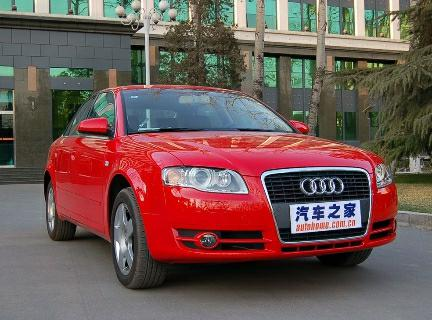car: (32, 71, 406, 291)
